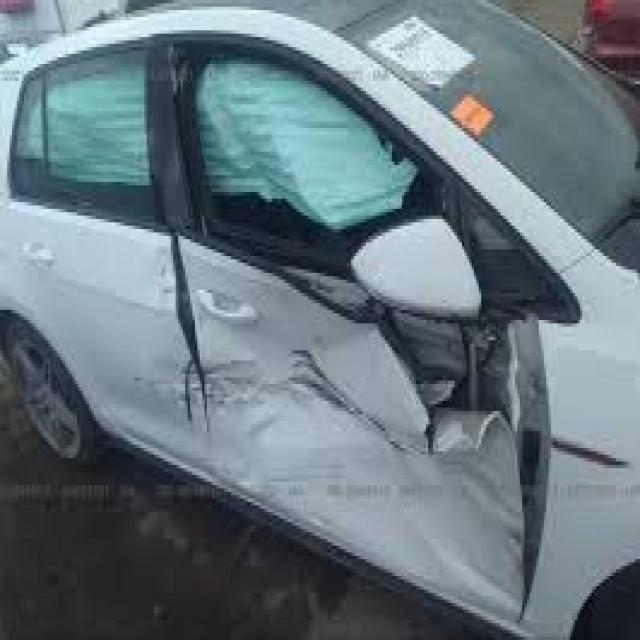damaged-door: (166, 17, 554, 628)
